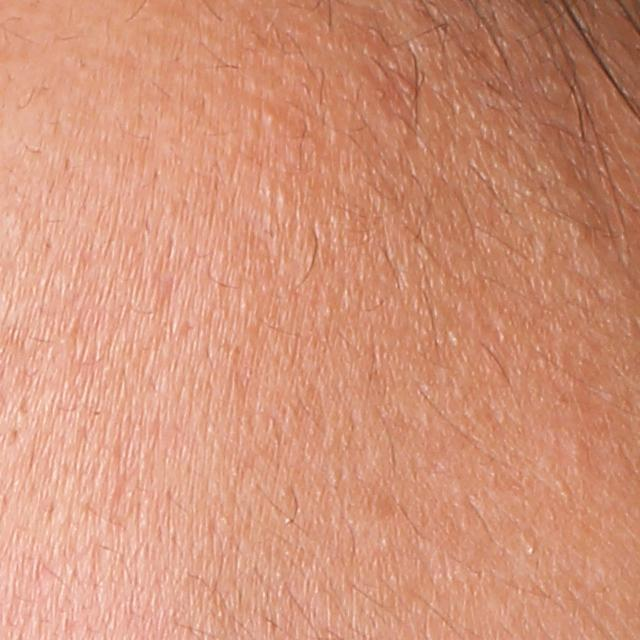comedo: (563, 434, 596, 469), (261, 103, 287, 130)
